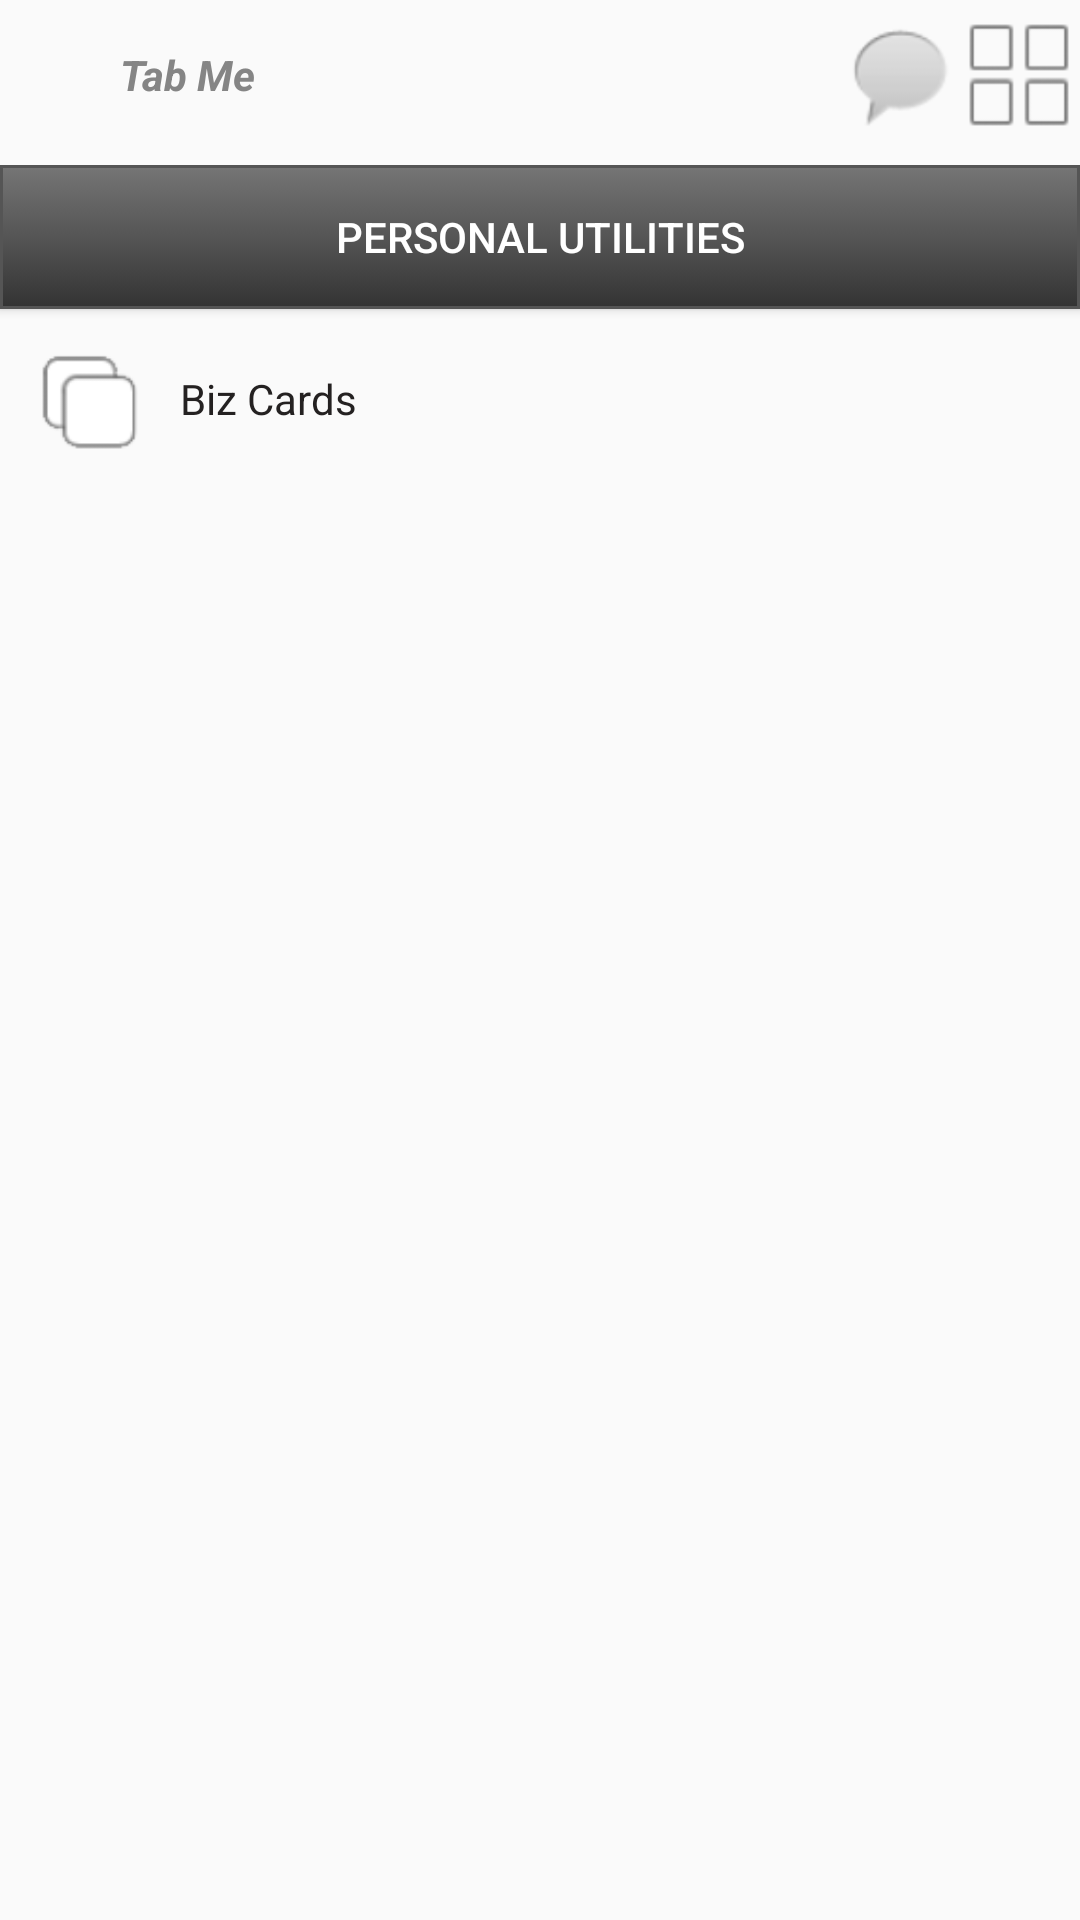

Icons on this 1080w x 1920h Android screen, each with the point to tap as point (x, y):
menu: point (1019, 75)
sym action chat: point (899, 77)
